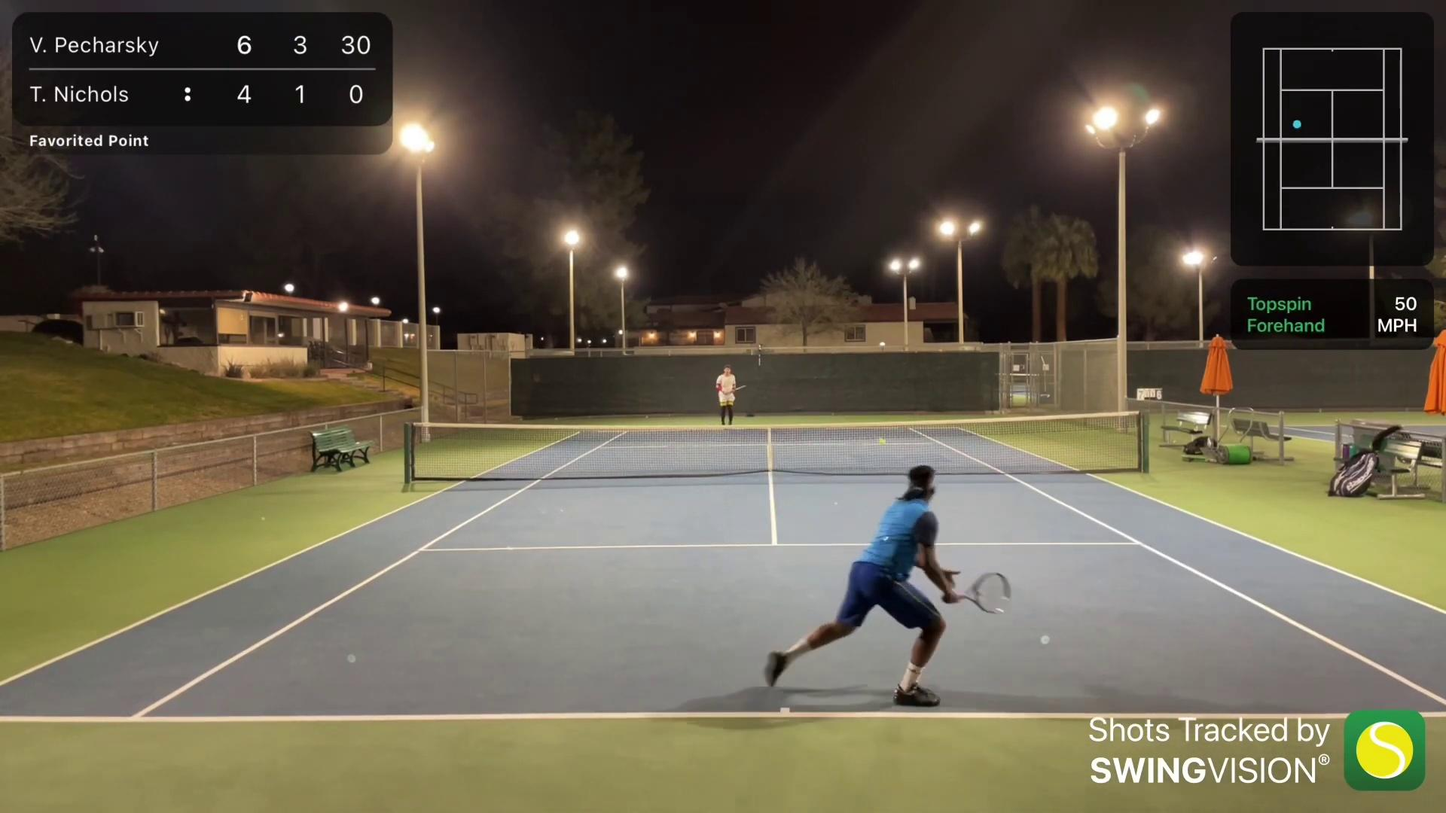ball: (876, 435, 890, 446)
